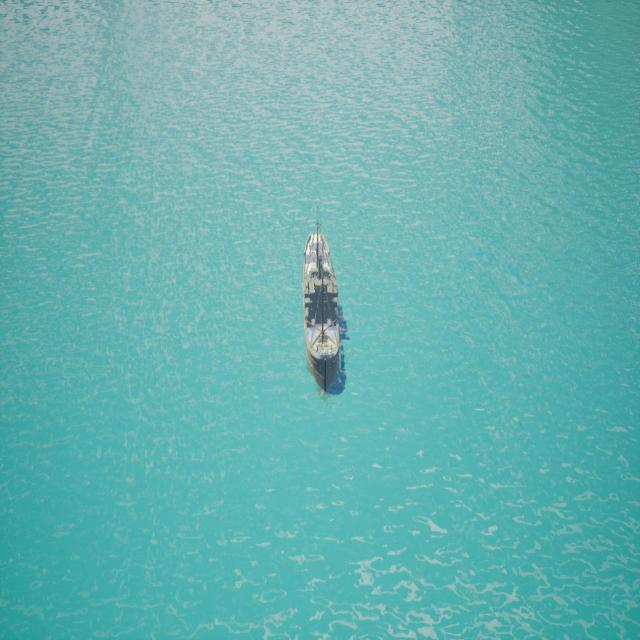fishing ship: (303, 223, 347, 400)
